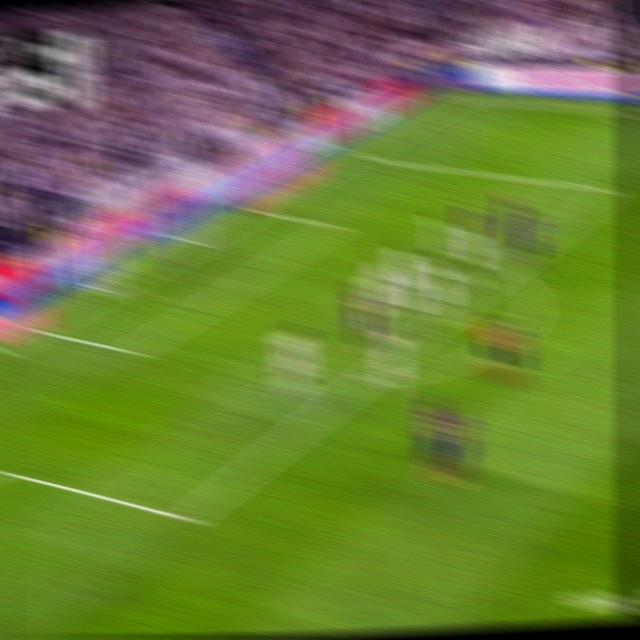bigarea_bottom_inner: (175, 501, 201, 535)
bigarea_top_inner: (600, 176, 623, 201)
bigarea_top_outter: (347, 145, 368, 164)
bottom_arc_area_intersection: (352, 366, 377, 393)
corner: (446, 90, 470, 106)
smallarea_bottom_inner: (119, 335, 144, 366)
smallarea_bottom_outter: (28, 320, 50, 340)
smallarea_top_inner: (325, 216, 346, 235)
